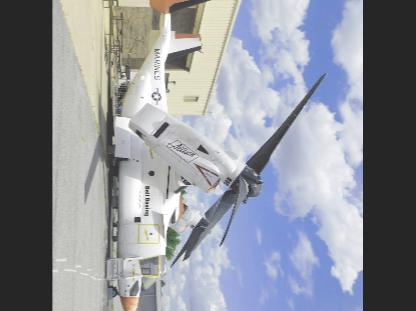Tornado: (107, 0, 328, 309)
